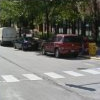crosswalk: (0, 68, 99, 83)
